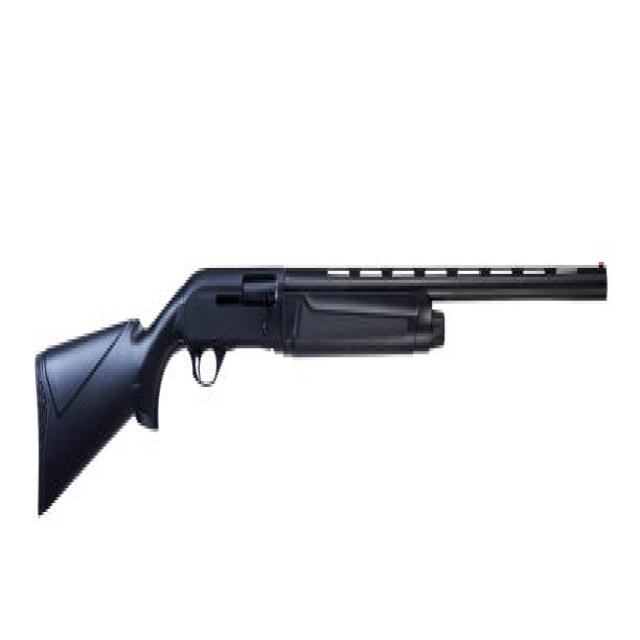rifle: (29, 231, 616, 535)
